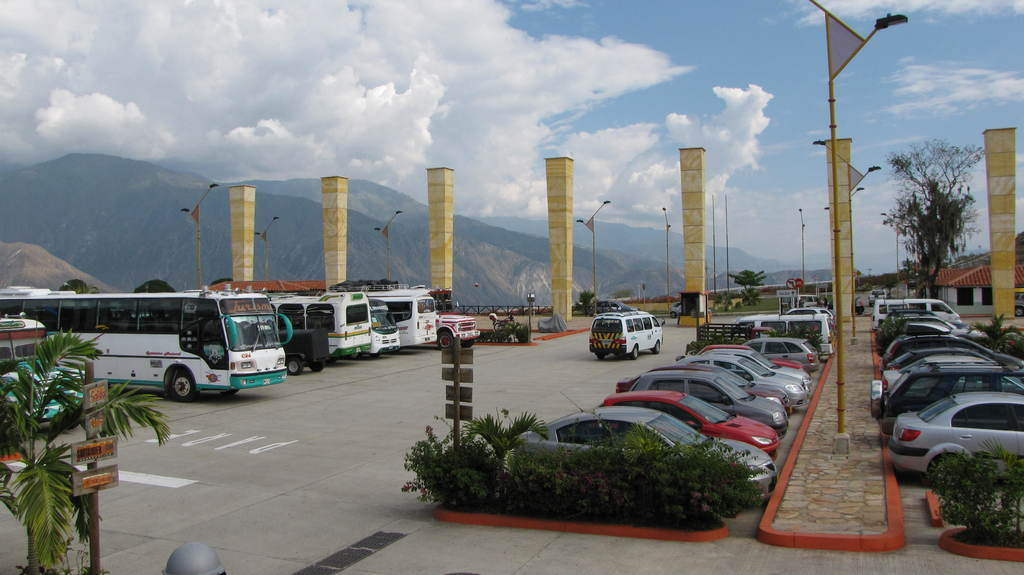Bus: (0, 277, 293, 401), (267, 289, 369, 366), (364, 285, 440, 350), (588, 307, 668, 360), (355, 286, 401, 355), (0, 315, 55, 372)
